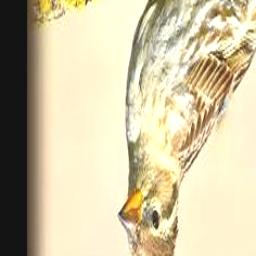Sparrow: (118, 0, 256, 256)
